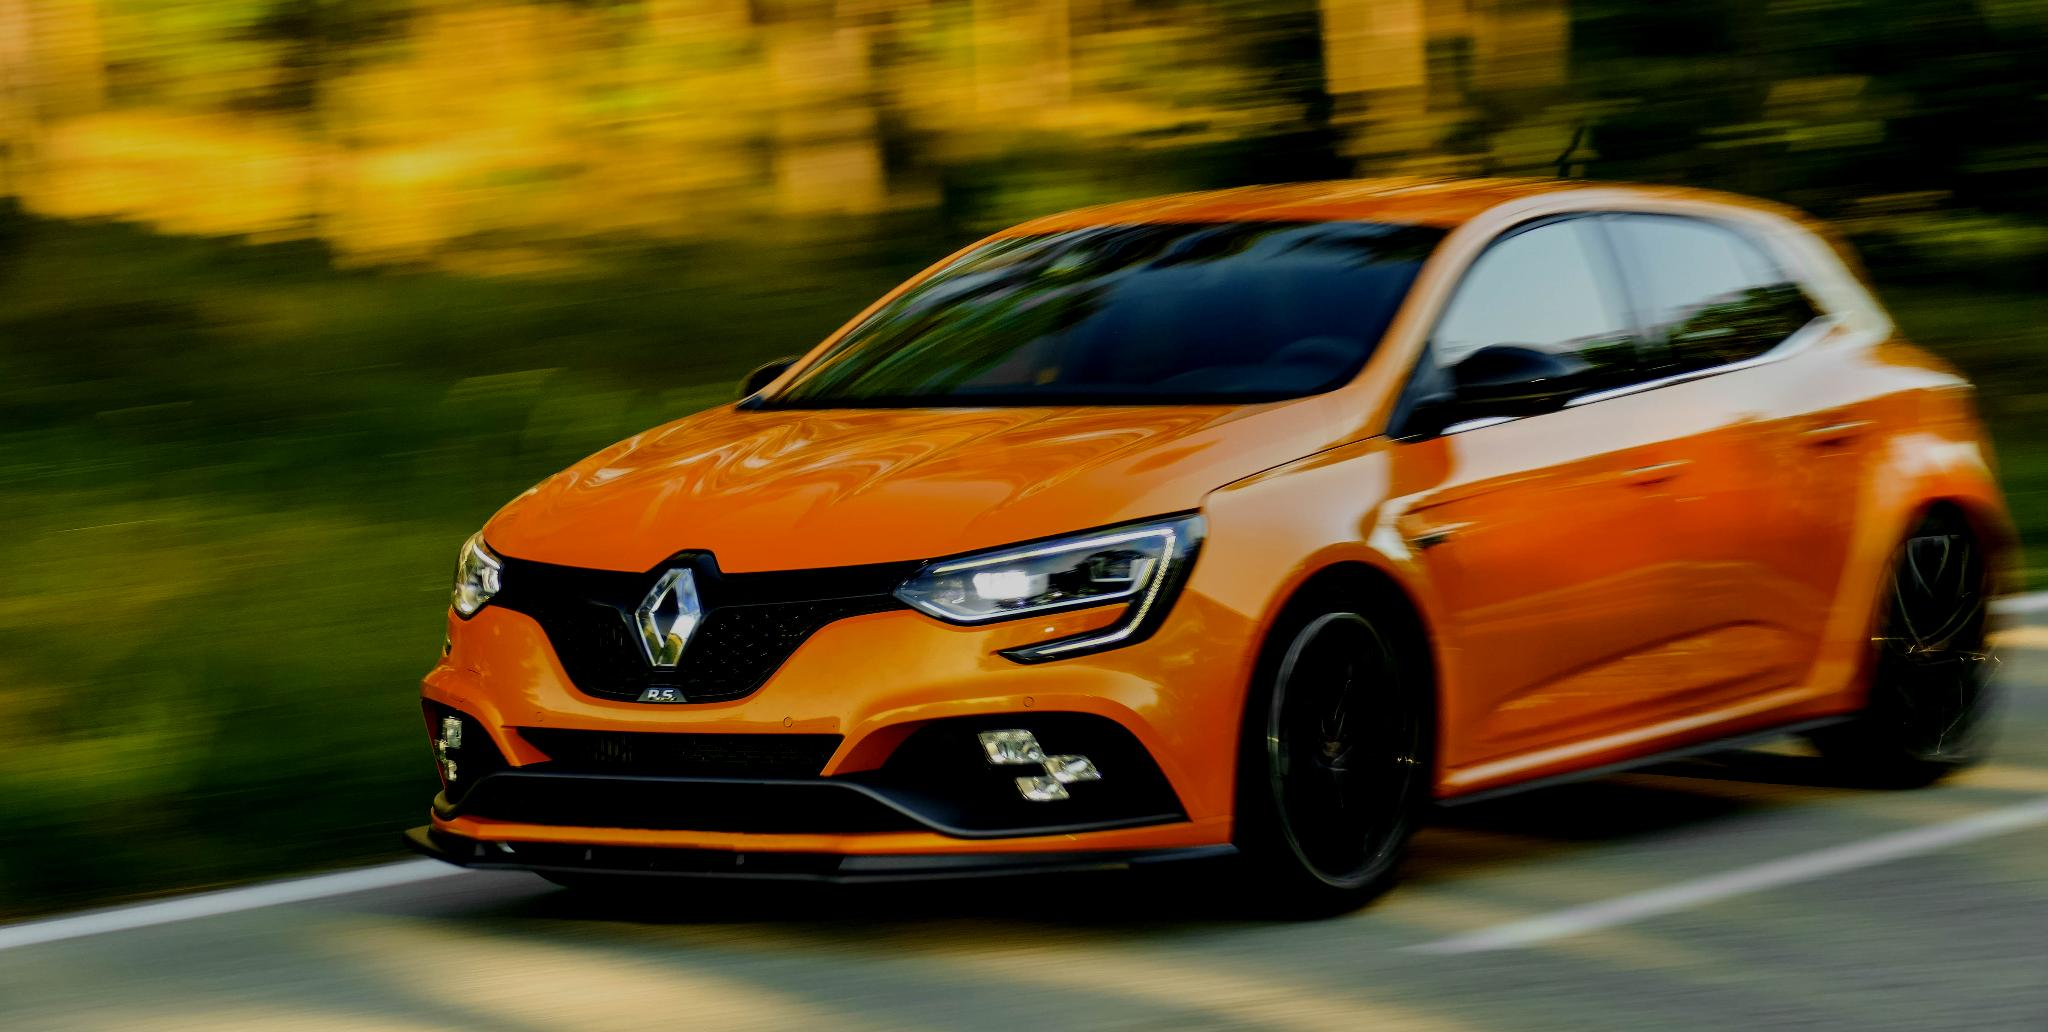Renault: (621, 550, 730, 682)
